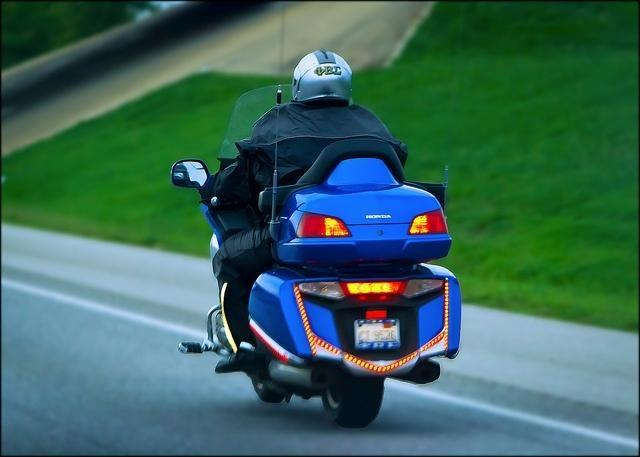motorcycle: (223, 160, 459, 425)
